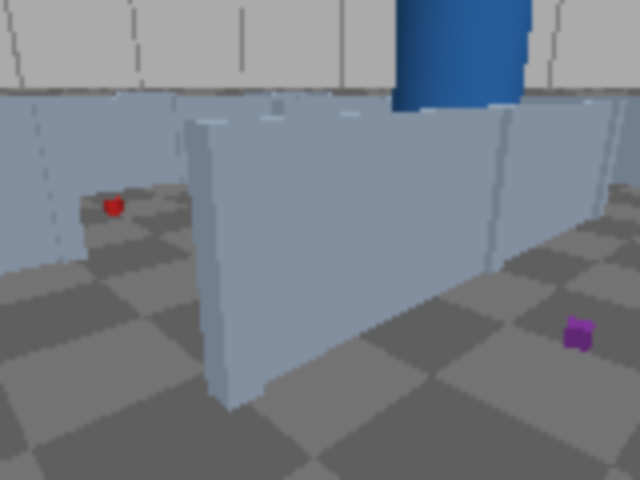puck: (562, 317, 595, 352), (105, 198, 124, 215)
